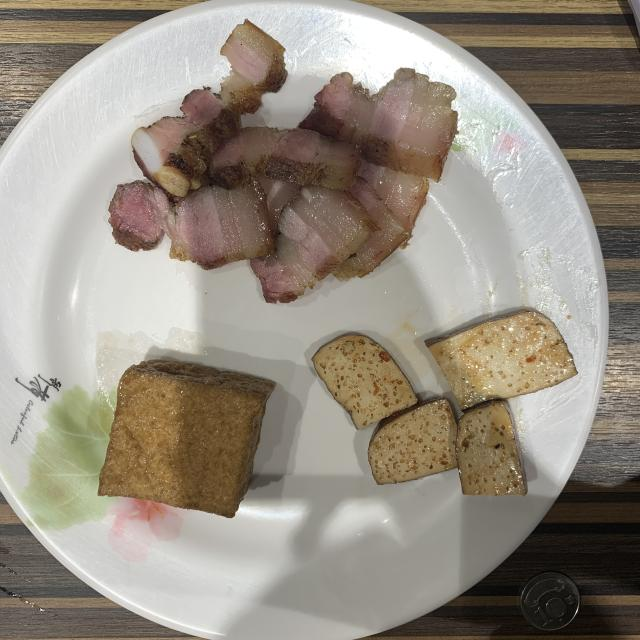coin: (520, 572, 580, 630)
egg tofu: (98, 360, 275, 518)
firm tofu: (312, 311, 576, 495)
grilled pork: (109, 21, 458, 302)
